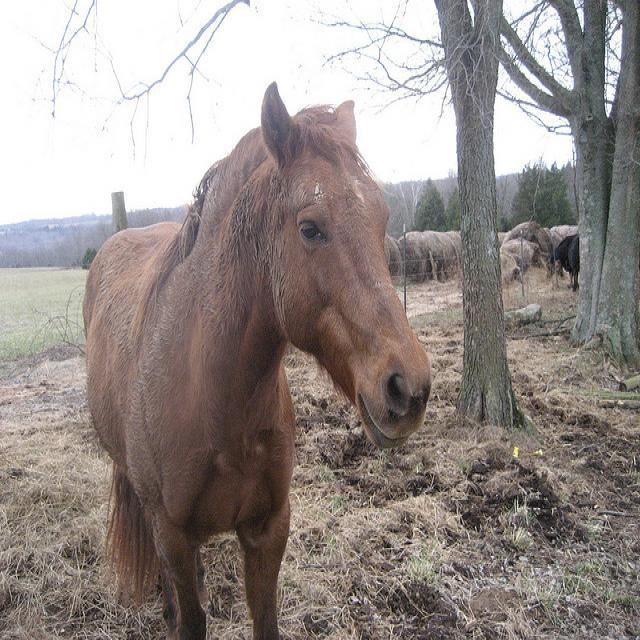cow: (533, 232, 578, 287)
